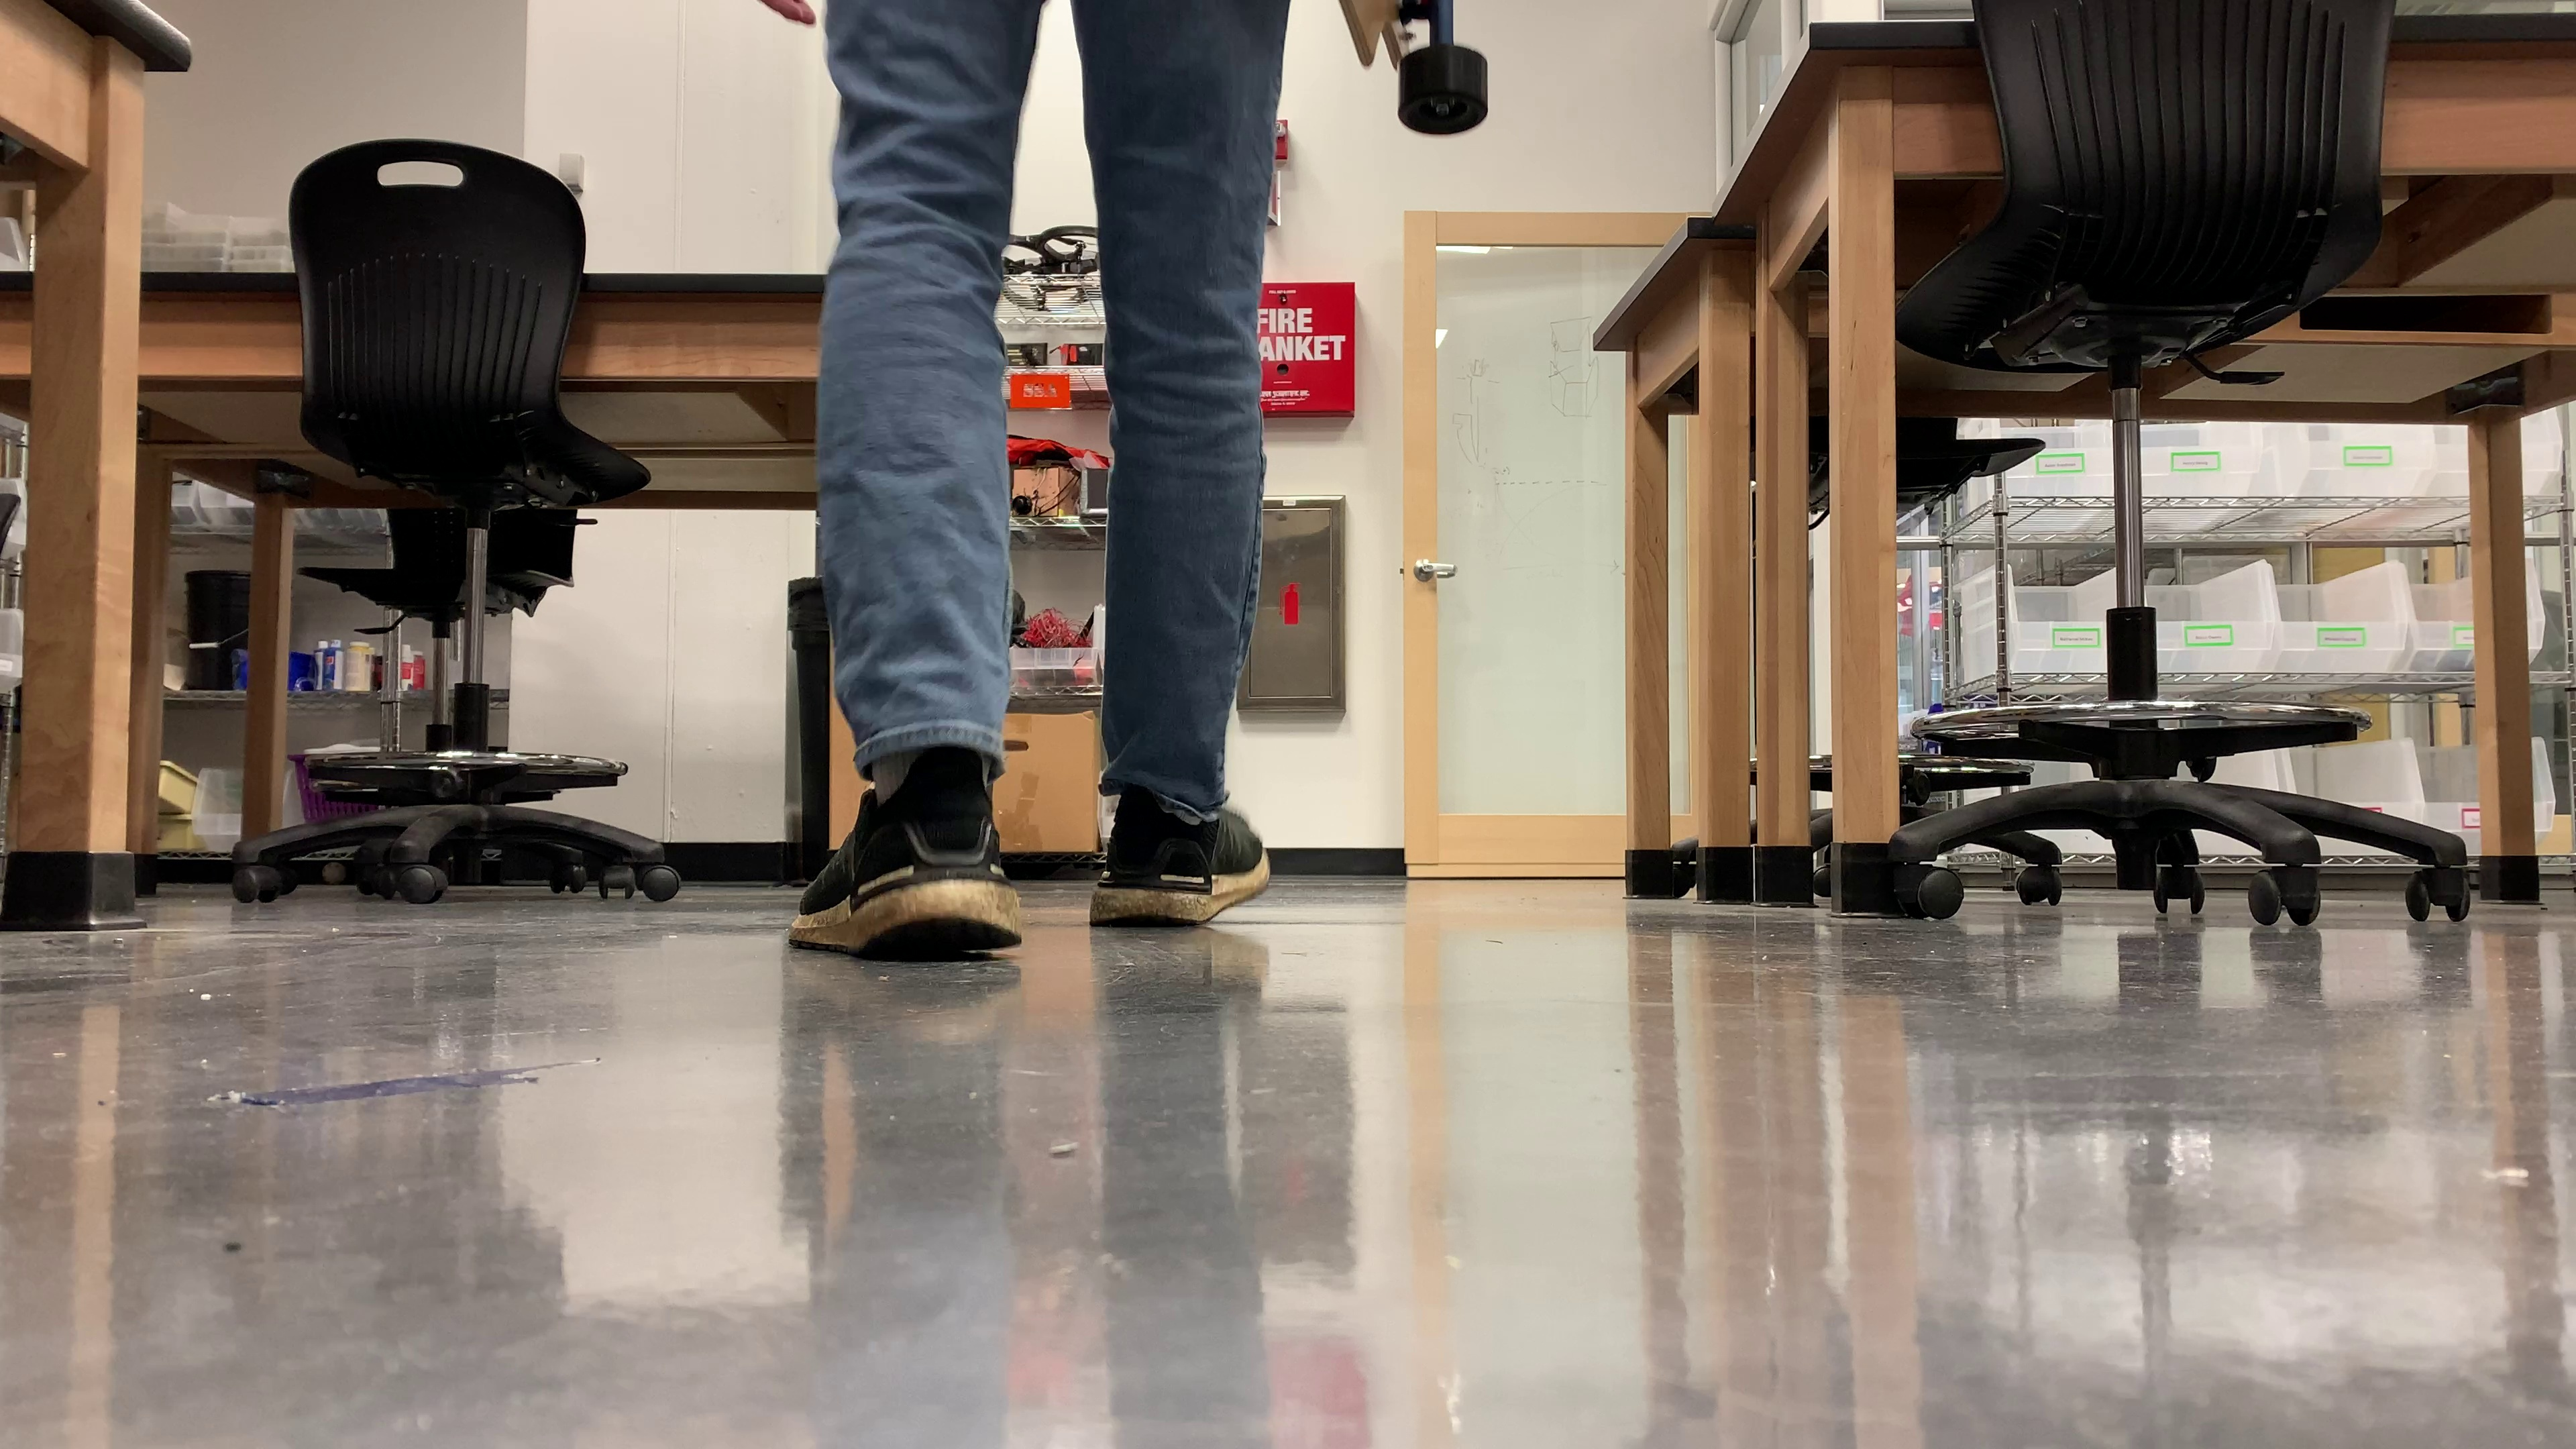shoe: (789, 747, 1019, 952), (1088, 791, 1270, 924)
